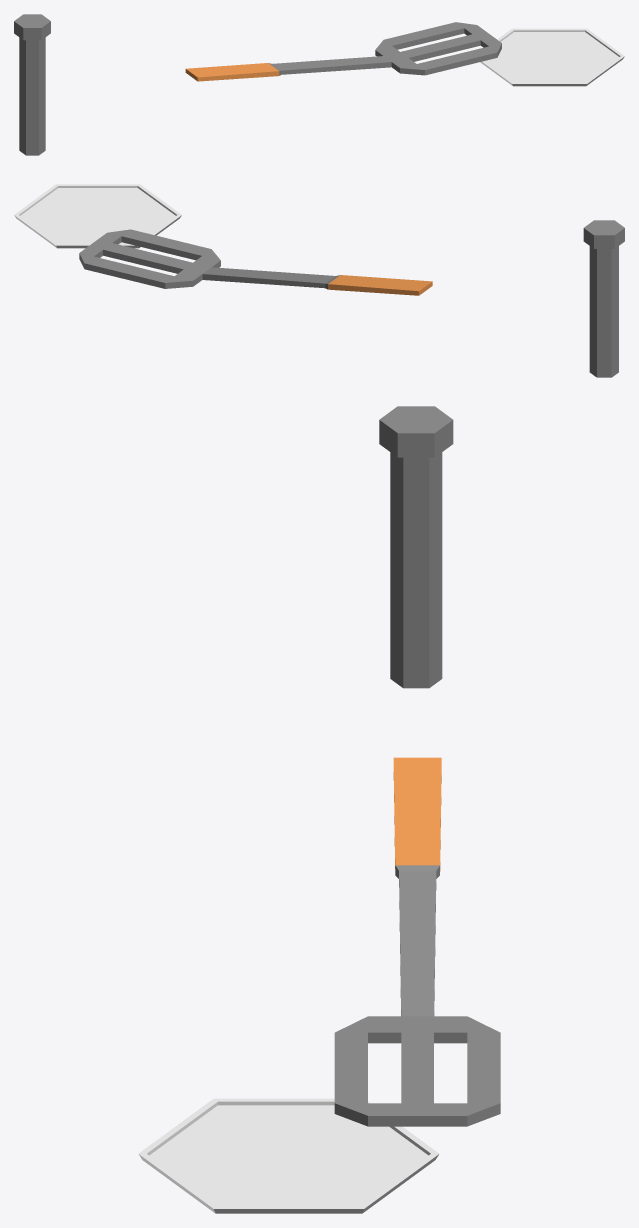
File: bolt.fbx
The picture shows the model from 3 angles, top to bottom: view 1: azimuth 30°, elevation 25°; view 2: azimuth 150°, elevation 25°; view 3: azimuth 270°, elevation 25°; orthographic projection. The views are drawn at different scales.
Parts seen in each view (by area): view 1: Plane, Cylinder, Cylinder.005; view 2: Plane, Cylinder, Cylinder.005; view 3: Cylinder, Plane, Cylinder.005.
Boxes of the visible parts, box(x1,y1,x2,y2) form: Plane: box(185, 22, 501, 81); Cylinder: box(480, 28, 624, 86); Cylinder.005: box(14, 14, 50, 155); Plane: box(79, 229, 432, 295); Cylinder: box(14, 184, 181, 248); Cylinder.005: box(583, 220, 624, 377); Cylinder: box(138, 1098, 439, 1213); Plane: box(334, 757, 500, 1126); Cylinder.005: box(379, 406, 453, 688).
Size of the model in its own units: 543 by 125 by 153.
